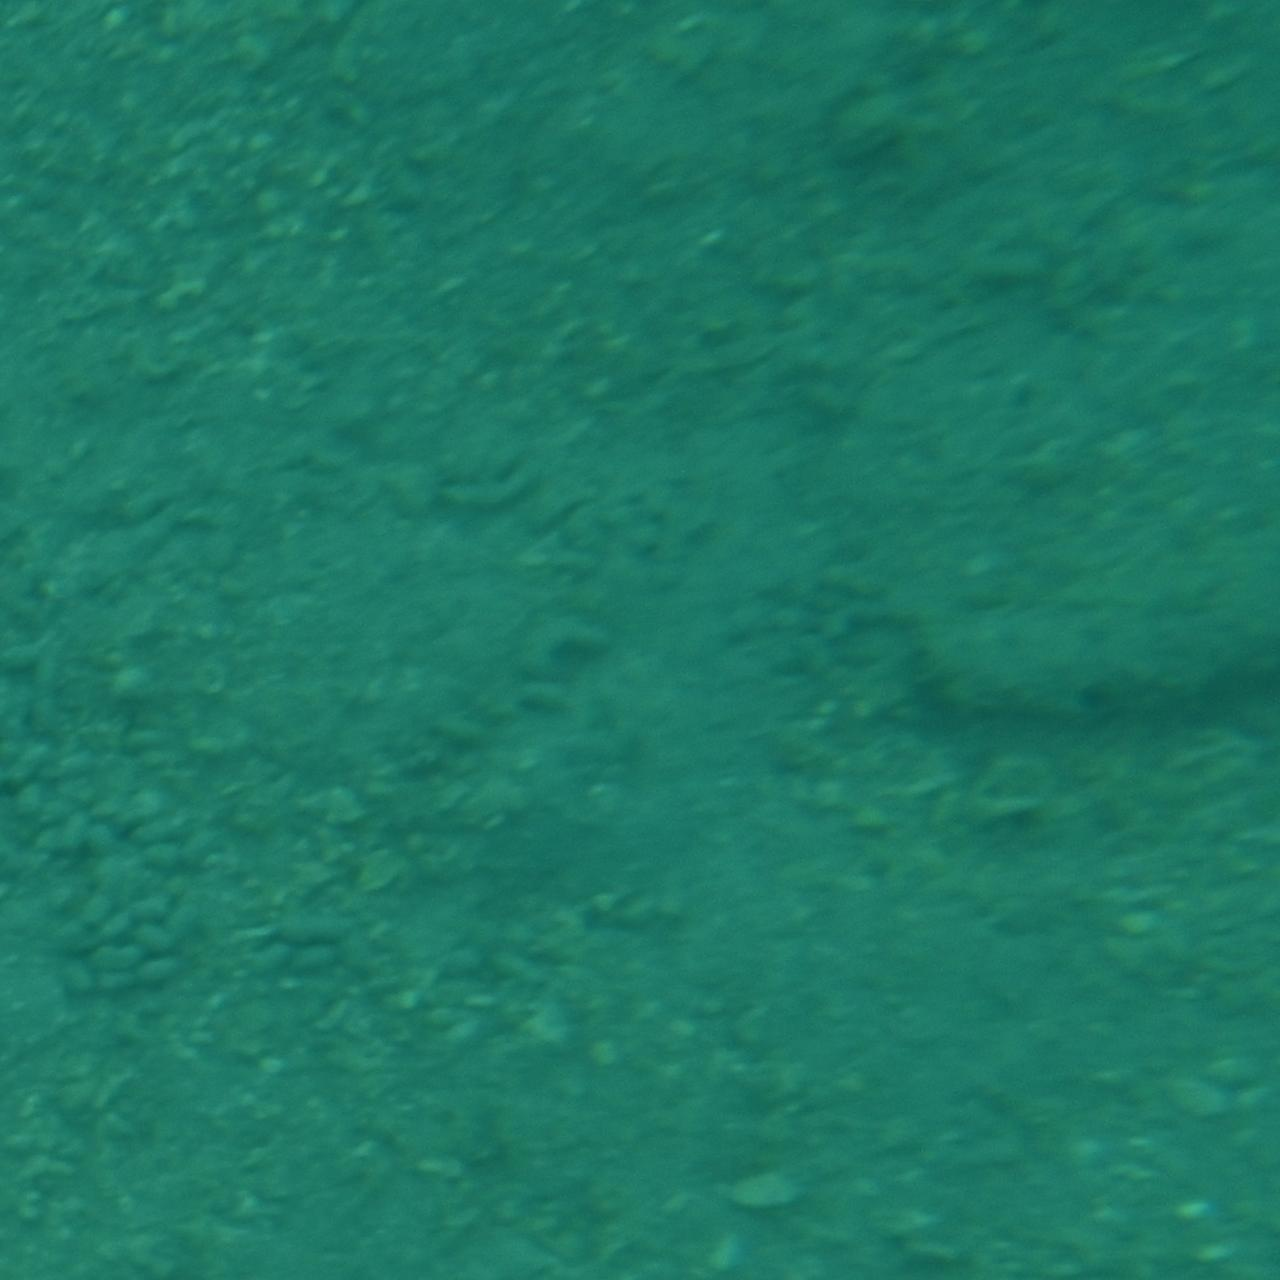Holothuria tubulosa: (903, 546, 1280, 734)
